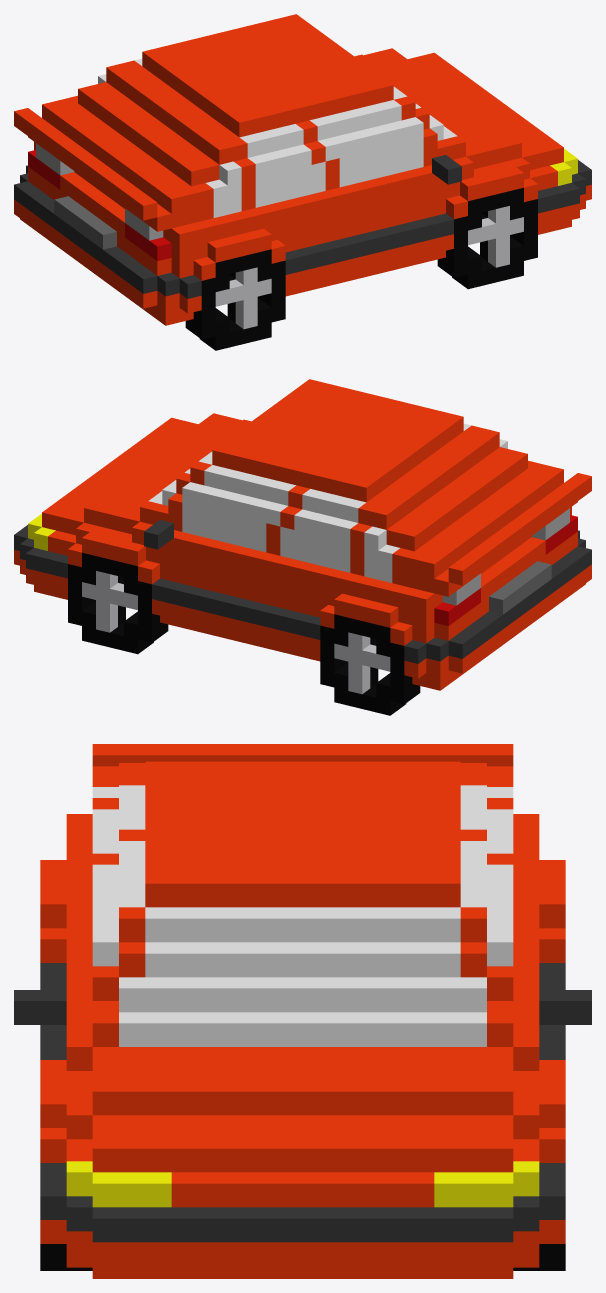
File: saab9000.gltf
The picture shows the model from 3 angles, top to bottom: view 1: azimuth 30°, elevation 25°; view 2: azimuth 150°, elevation 25°; view 3: azimuth 270°, elevation 25°; orthographic projection. The views are drawn at different scales.
Visible parts, largest first — view 1: Chassi, Windows, Wheel back right, Wheel front right, Back break lights, Back reverse lights, Front lights; view 2: Chassi, Windows, Wheel back left, Wheel front left, Back break lights, Back reverse lights, Front lights; view 3: Chassi, Windows, Front lights, Wheel front right, Wheel front left.
Part boxes in pixels (x1,y1,x2,y2): Chassi: (14,14,591,325); Windows: (98,58,457,217); Wheel back right: (185,249,285,350); Wheel front right: (437,187,537,289); Back break lights: (28,150,171,261); Back reverse lights: (36,143,163,240); Front lights: (550,148,577,185); Chassi: (14,379,591,690); Windows: (148,423,507,582); Wheel back left: (320,614,420,715); Wheel front left: (68,552,168,654); Back break lights: (434,515,577,626); Back reverse lights: (442,508,569,605); Front lights: (28,513,55,550); Chassi: (14,744,591,1278); Windows: (92,785,513,1046); Front lights: (66,1161,539,1207); Wheel front right: (40,1244,92,1270); Wheel front left: (513,1244,565,1270).
Bounding box in the file's own units: 32 × 13 × 22.
1 material, 1 textured.
